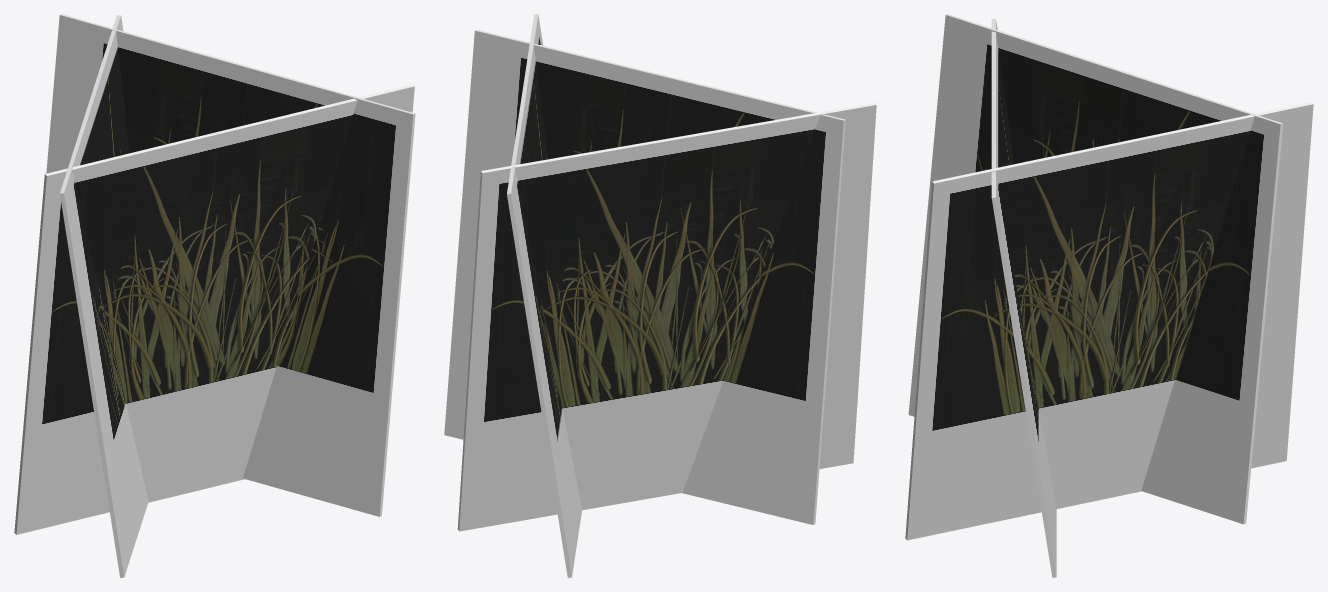
File: Grass_Blender5.fbx
3 views of the same model, side by side, from view 1: azimuth 30°, elevation 25°; view 2: azimuth 150°, elevation 25°; view 3: azimuth 270°, elevation 25° (orthographic).
Parts seen in each view (by area): view 1: Grass_Blender2; view 2: Grass_Blender2; view 3: Grass_Blender2.
Part boxes in pixels (x1,y1,x2,y2): Grass_Blender2: [14, 14, 415, 577]; Grass_Blender2: [444, 14, 876, 577]; Grass_Blender2: [905, 14, 1313, 577].
Bounding box in the file's own units: 102 × 99.34 × 96.41.
Materials: 1 (1 with a texture image).
